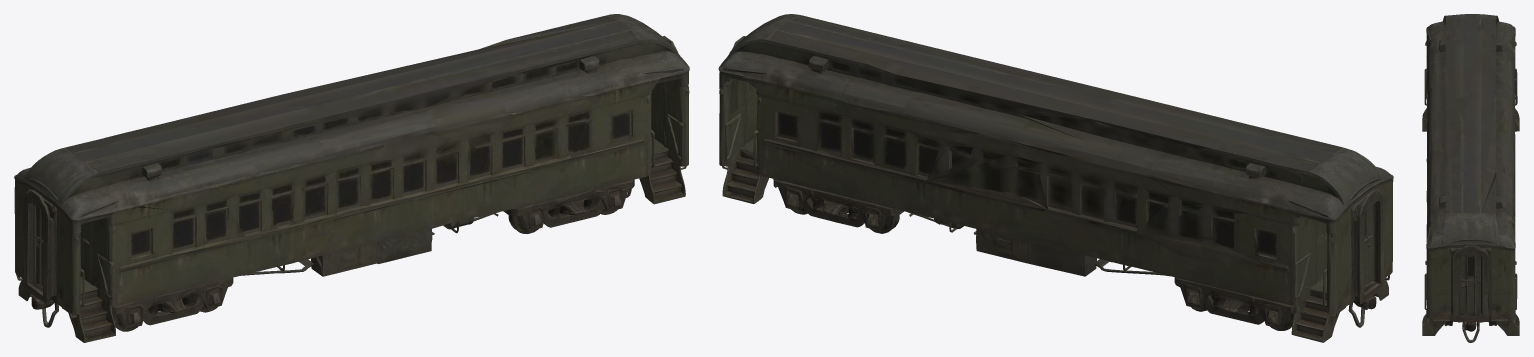
File: coach_ext.glb
3 renders of one model, left to right at view 1: azimuth 30°, elevation 25°; view 2: azimuth 150°, elevation 25°; view 3: azimuth 270°, elevation 25°, orthographic. The views are drawn at different scales.
Parts seen in each view (by area): view 1: Mesh_0; view 2: Mesh_0; view 3: Mesh_0.
Boxes of the visible parts, bbox=[...] form: Mesh_0: bbox=[14, 14, 689, 342]; Mesh_0: bbox=[718, 14, 1393, 342]; Mesh_0: bbox=[1422, 14, 1519, 342].
Bounding box in the file's own units: 1.9 × 0.4793 × 0.342.
1 material, 1 textured.
